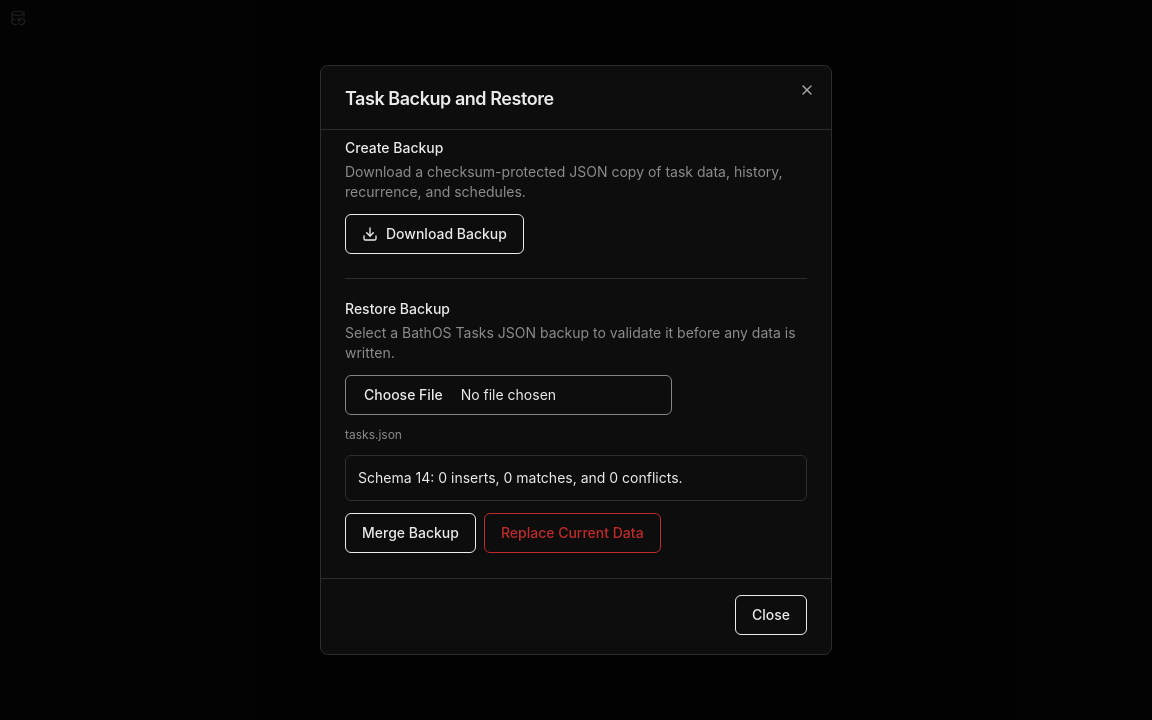
Test case: TaskDataPortabilityDialog › disables an open replacement confirmation if synchronization becomes unsafe
The width and height of the screenshot is (1152, 720).
Earlier steps of the test are not shown.
Later steps or results of the test are not shown.
Expected: the text "Schema 14: 0 inserts, 0 matches, and 0 conflicts." is shown, [358, 469, 683, 486]
Click the button "Replace Current Data".
click(572, 533)  # box [484, 513, 661, 553]
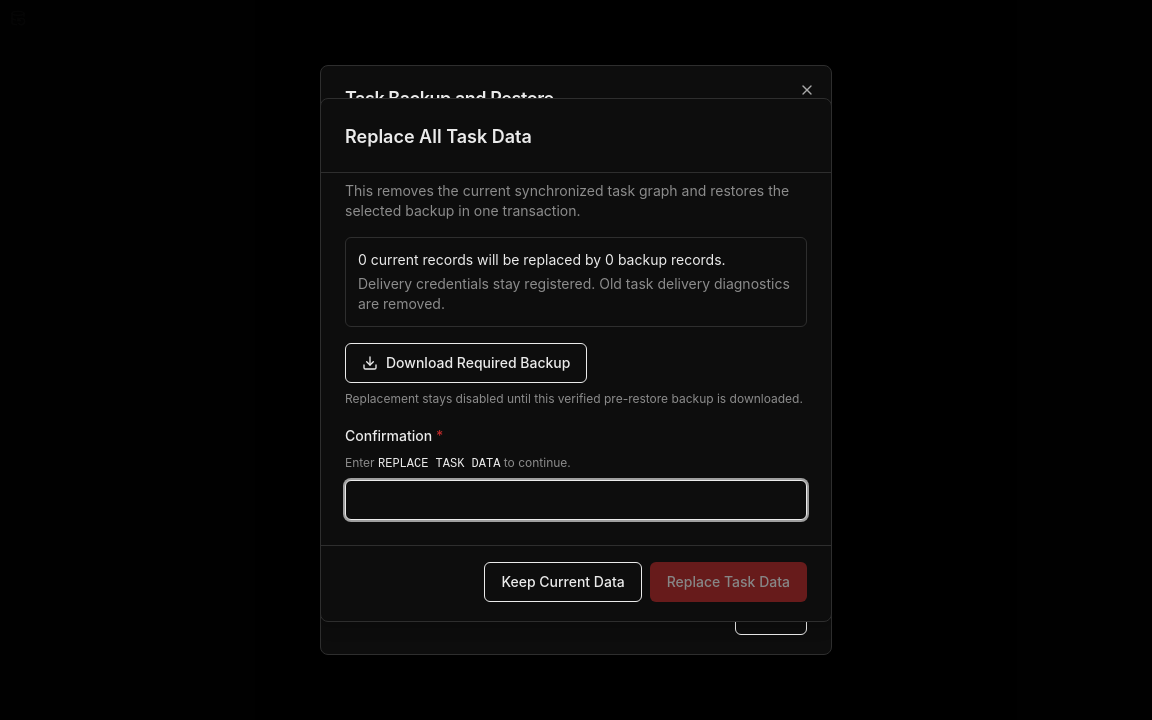
Result: the heading "Replace All Task Data" is shown at [345, 126, 532, 147]
